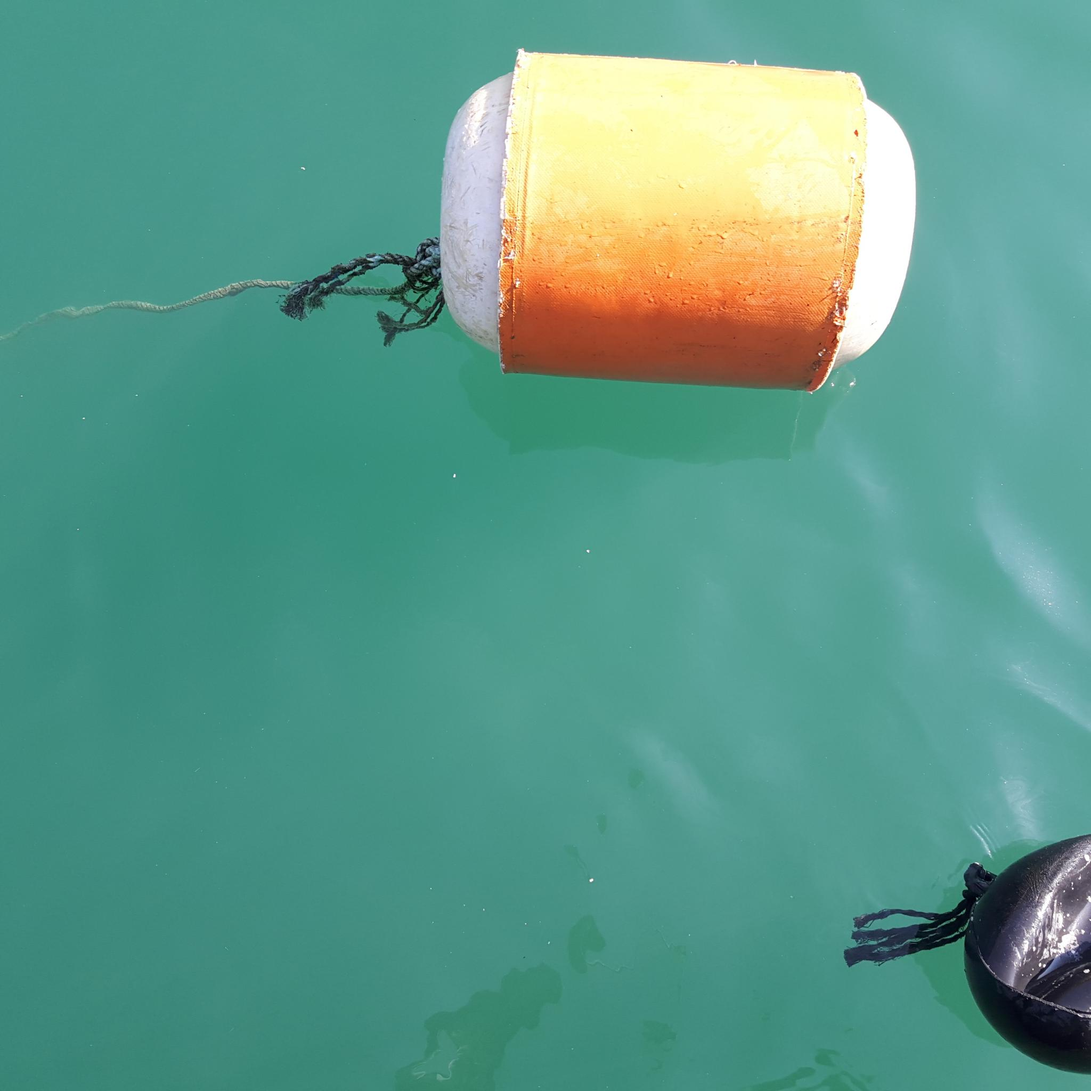sampah_terapung: (441, 48, 917, 395), (1, 237, 445, 347), (965, 834, 1091, 1075), (844, 890, 978, 968)
